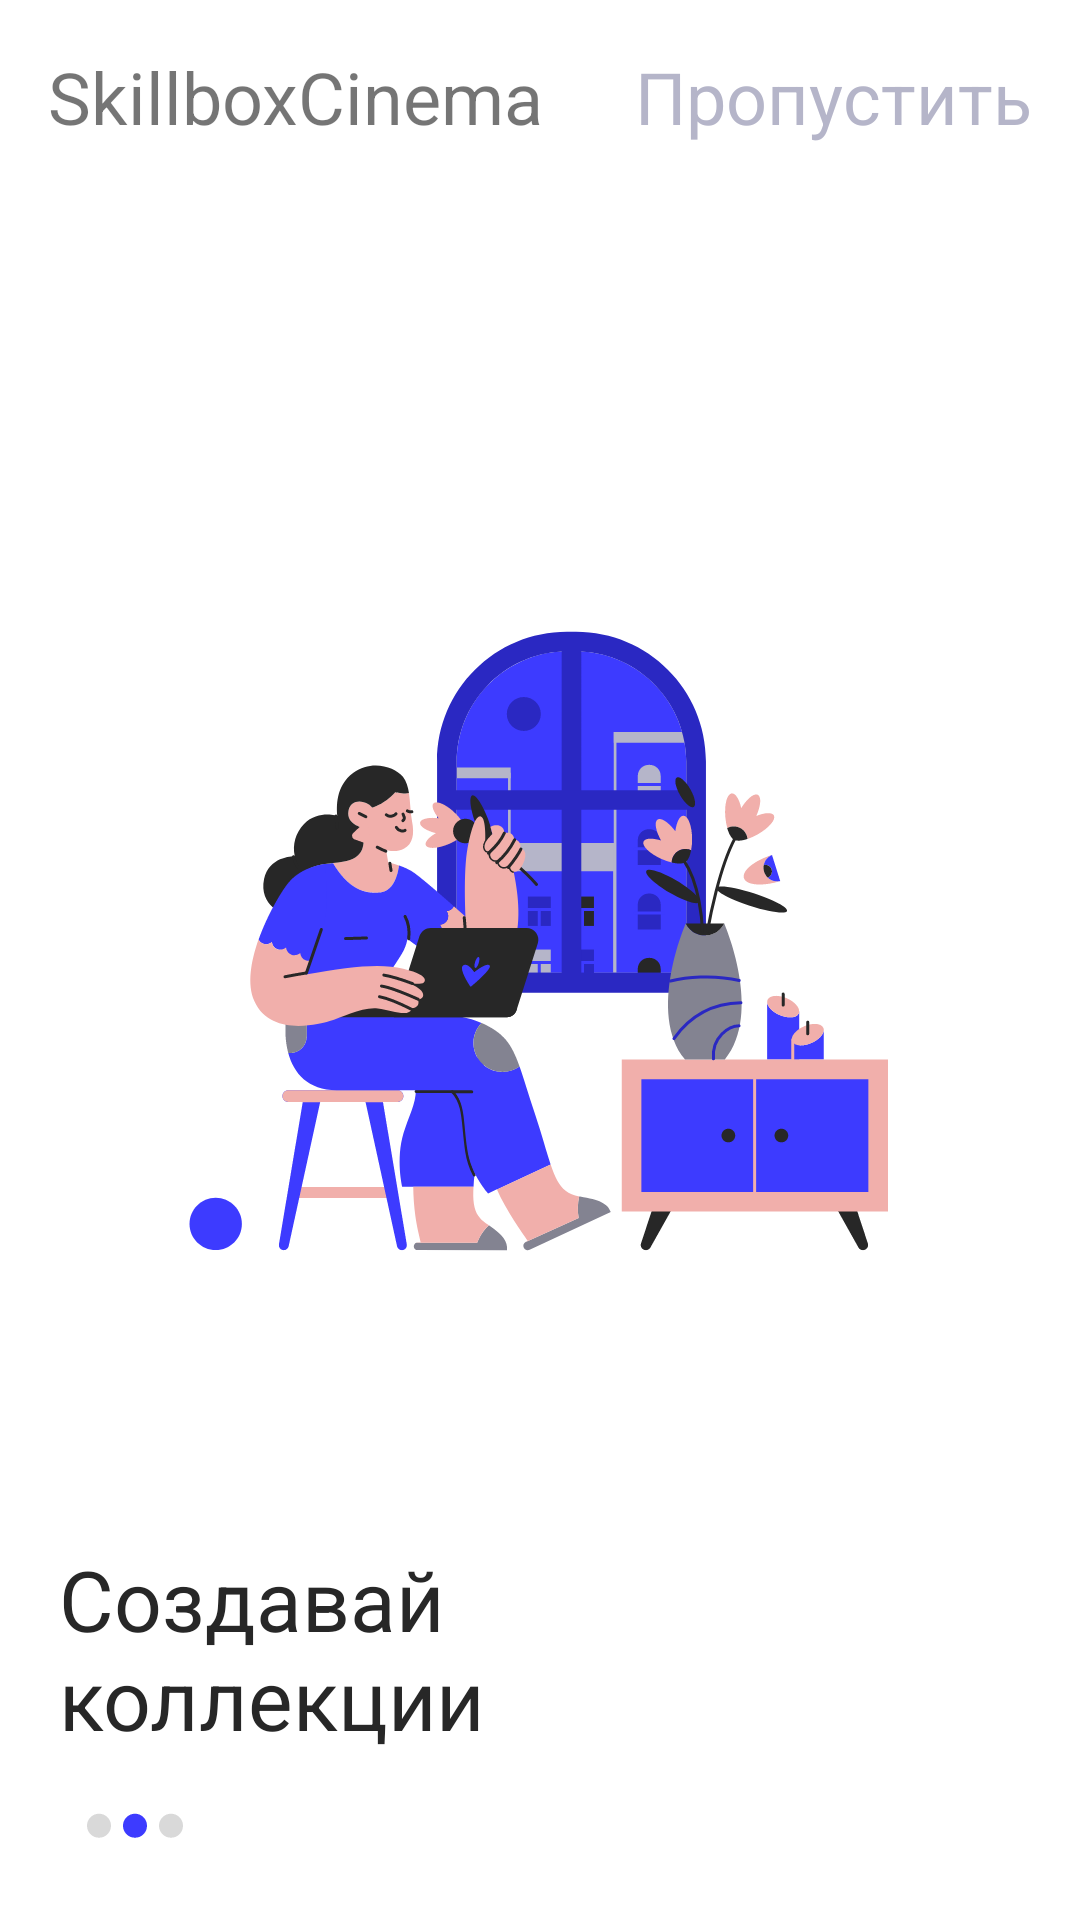

Icon click points for this 1080*1920 phone screenshot, format point (x, y):
second dots navigation: point (135, 1825)
